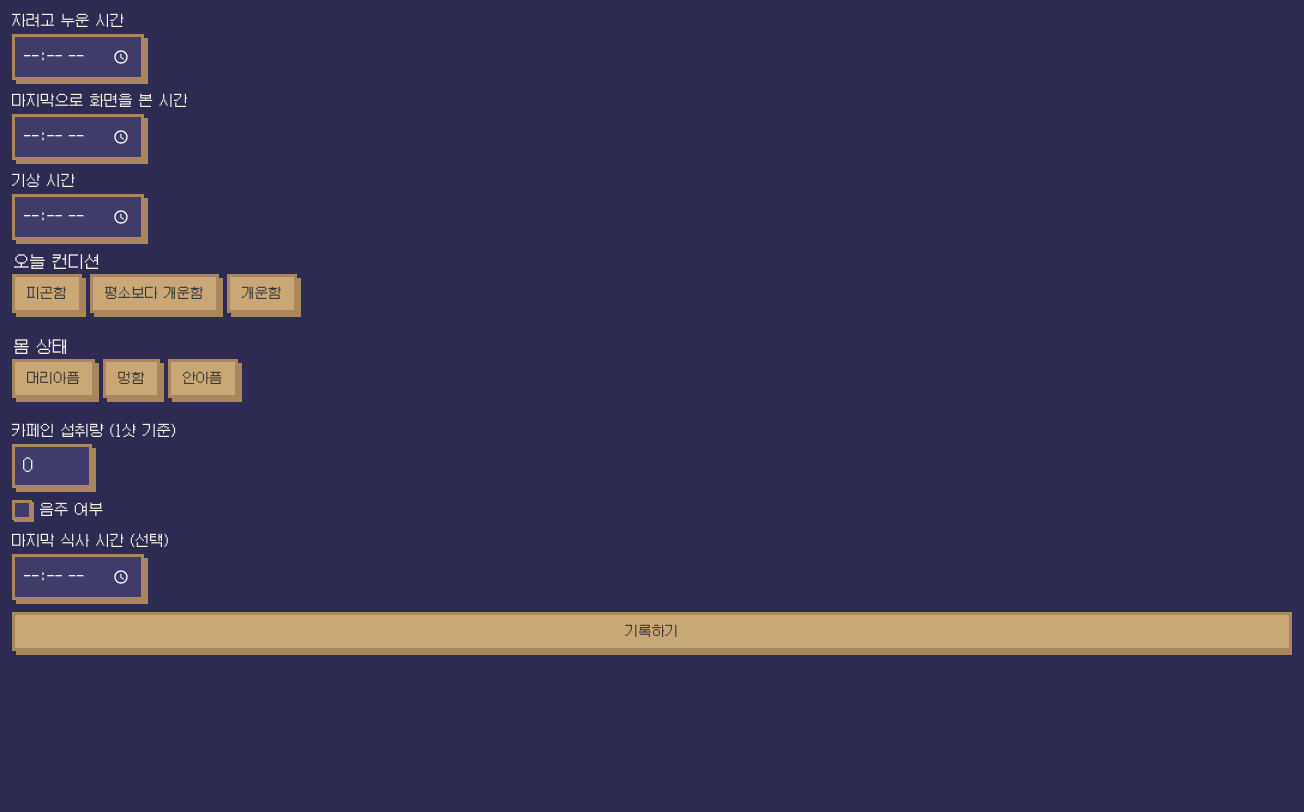
Test: SleepEntryForm › reveals the alcohol type picker only once "음주 여부" is checked
The width and height of the screenshot is (1304, 812).
Expected: the text "주종" is not shown
Click the checkbox labelled "음주 여부".
click(22, 510)  # box [12,500,32,520]
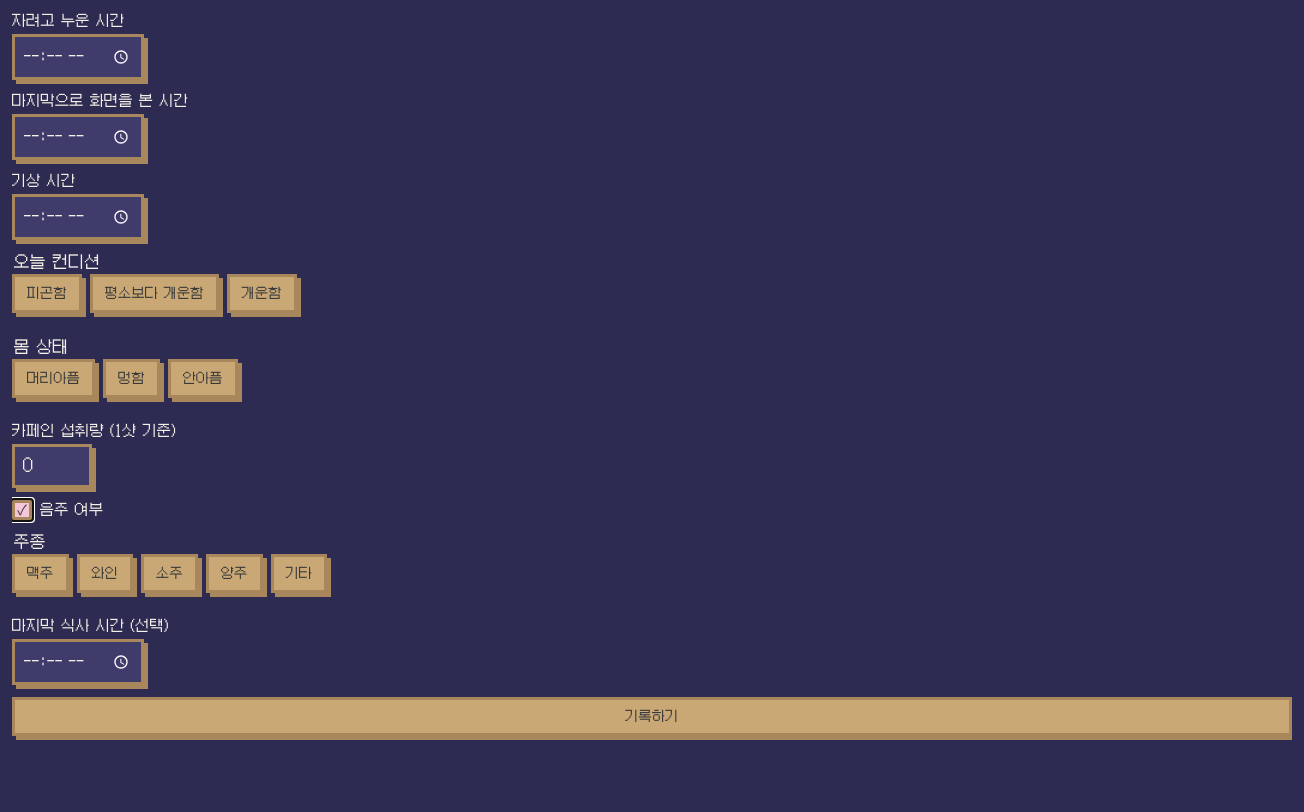
Now the text "주종" is shown, box [12,532,48,554]
